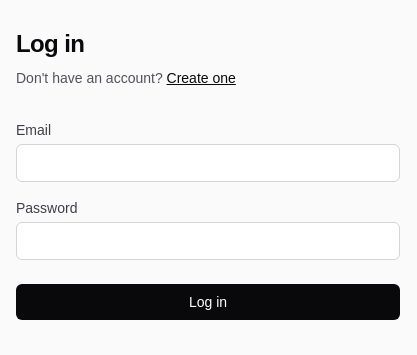
Test: LoginPage › shows the server error message when login fails
Type "ada@example.com" into the field labelled "Email".
click(208, 163); type("ada@example.com")  # box [16,144,400,182]
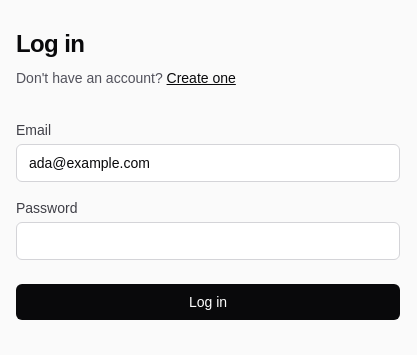
Type "wrong-password" into the password field labelled "Password".
click(208, 241); type("wrong-password")  # box [16,222,400,260]
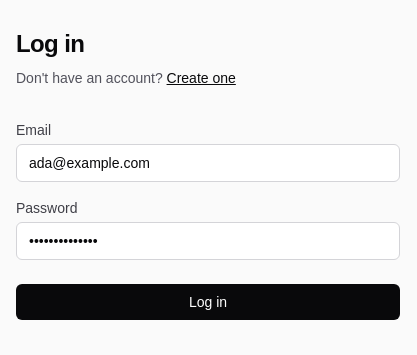
Click the button "Log in".
click(208, 302)  # box [16,284,400,320]
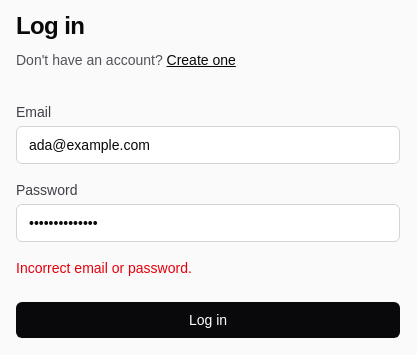
Now the message reads "Incorrect email or password.", box [16,260,192,276]
